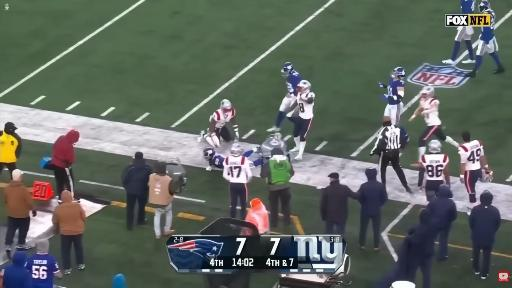Helmet: (297, 80, 311, 93), (420, 86, 435, 98), (428, 140, 441, 153), (281, 63, 293, 77), (391, 67, 405, 79), (231, 143, 243, 156), (220, 100, 232, 113), (204, 148, 215, 160), (481, 170, 492, 182), (479, 1, 490, 12)
Jersey: (223, 156, 252, 183), (421, 154, 449, 180), (459, 140, 483, 170), (421, 98, 441, 126), (480, 11, 495, 44), (210, 109, 235, 128), (297, 92, 314, 119), (388, 78, 404, 104), (287, 71, 302, 96), (209, 153, 225, 169), (461, 0, 474, 13)
Player: (409, 87, 459, 166), (466, 1, 504, 77), (459, 131, 491, 213), (267, 63, 302, 131), (379, 68, 409, 143), (223, 144, 252, 219), (288, 80, 314, 159), (198, 100, 239, 147), (419, 140, 450, 201), (379, 67, 405, 126), (443, 27, 475, 64), (203, 148, 225, 170)
